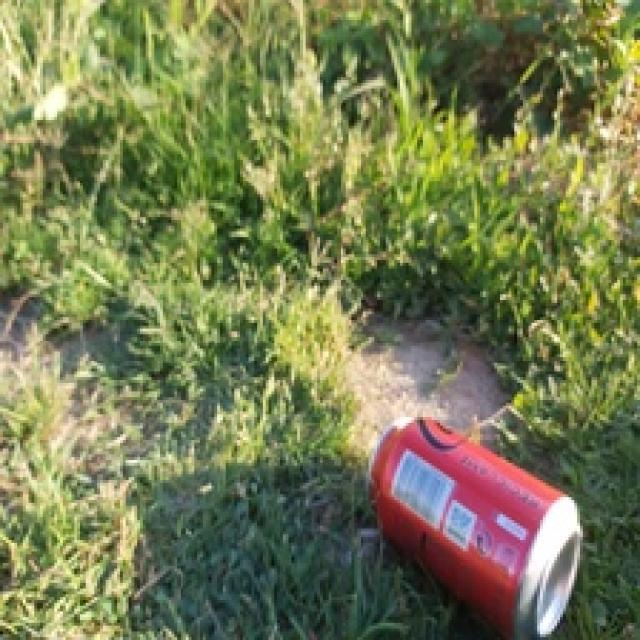recyclable: (363, 414, 580, 640)
